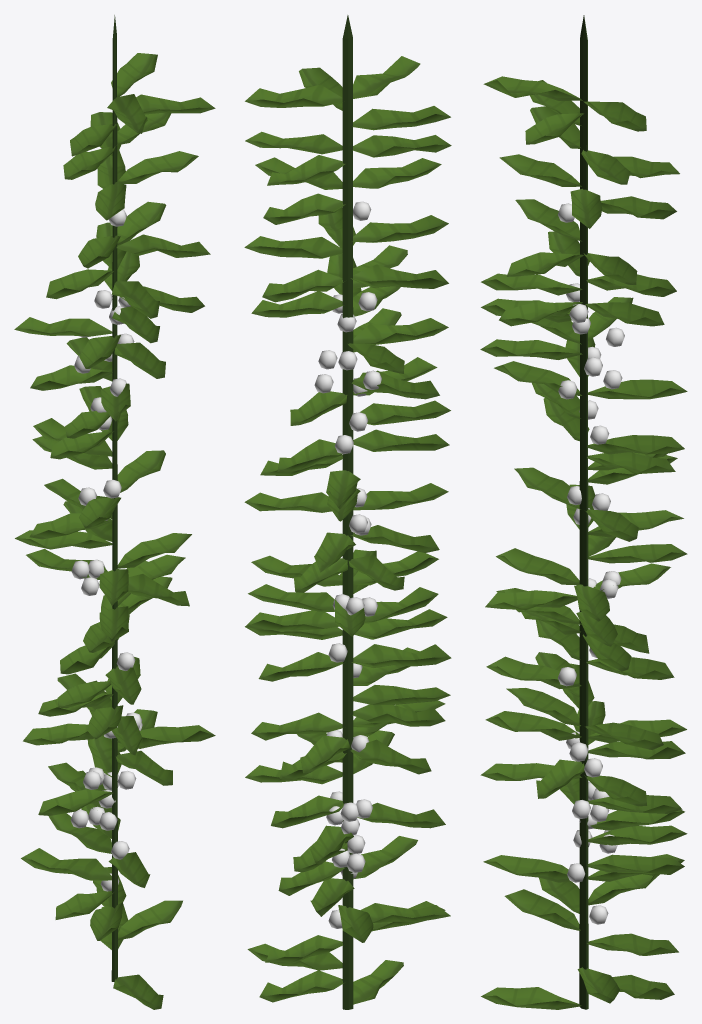
The model's file is KelpOrb1.fbx.
The picture shows the model from 3 angles, left to right: view 1: azimuth 30°, elevation 25°; view 2: azimuth 150°, elevation 25°; view 3: azimuth 270°, elevation 25°; orthographic projection. The views are drawn at different scales.
Parts seen in each view (by area): view 1: Circle.176; view 2: Circle.176; view 3: Circle.176.
Boxes of the visible parts, box(x1,y1,x2,y2) form: Circle.176: box(14, 15, 215, 1009); Circle.176: box(244, 15, 451, 1009); Circle.176: box(480, 15, 687, 1009).
Size of the model in its own units: 1173 by 6211 by 1173.
